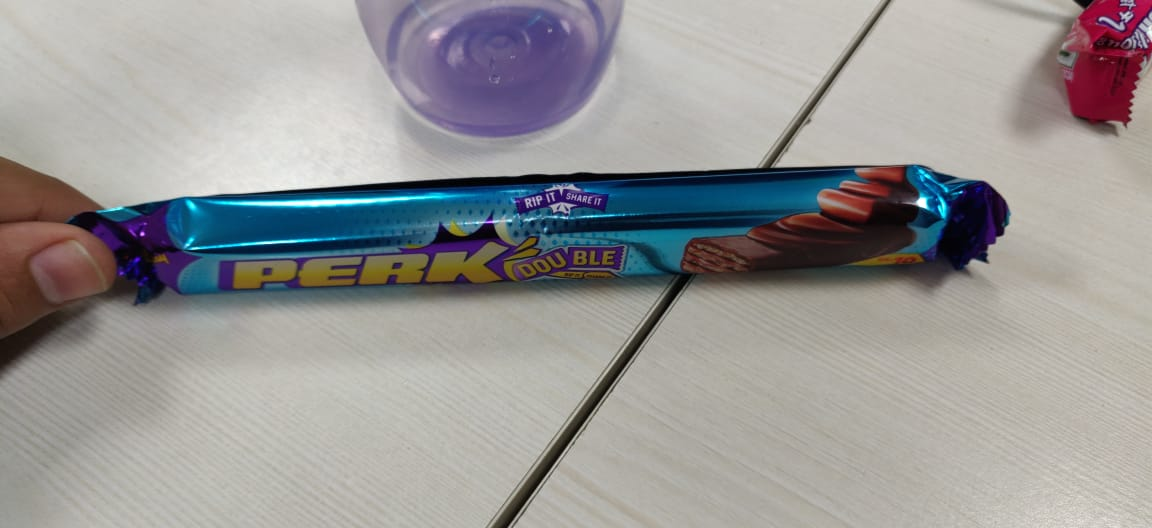perk: (61, 158, 1023, 317)
